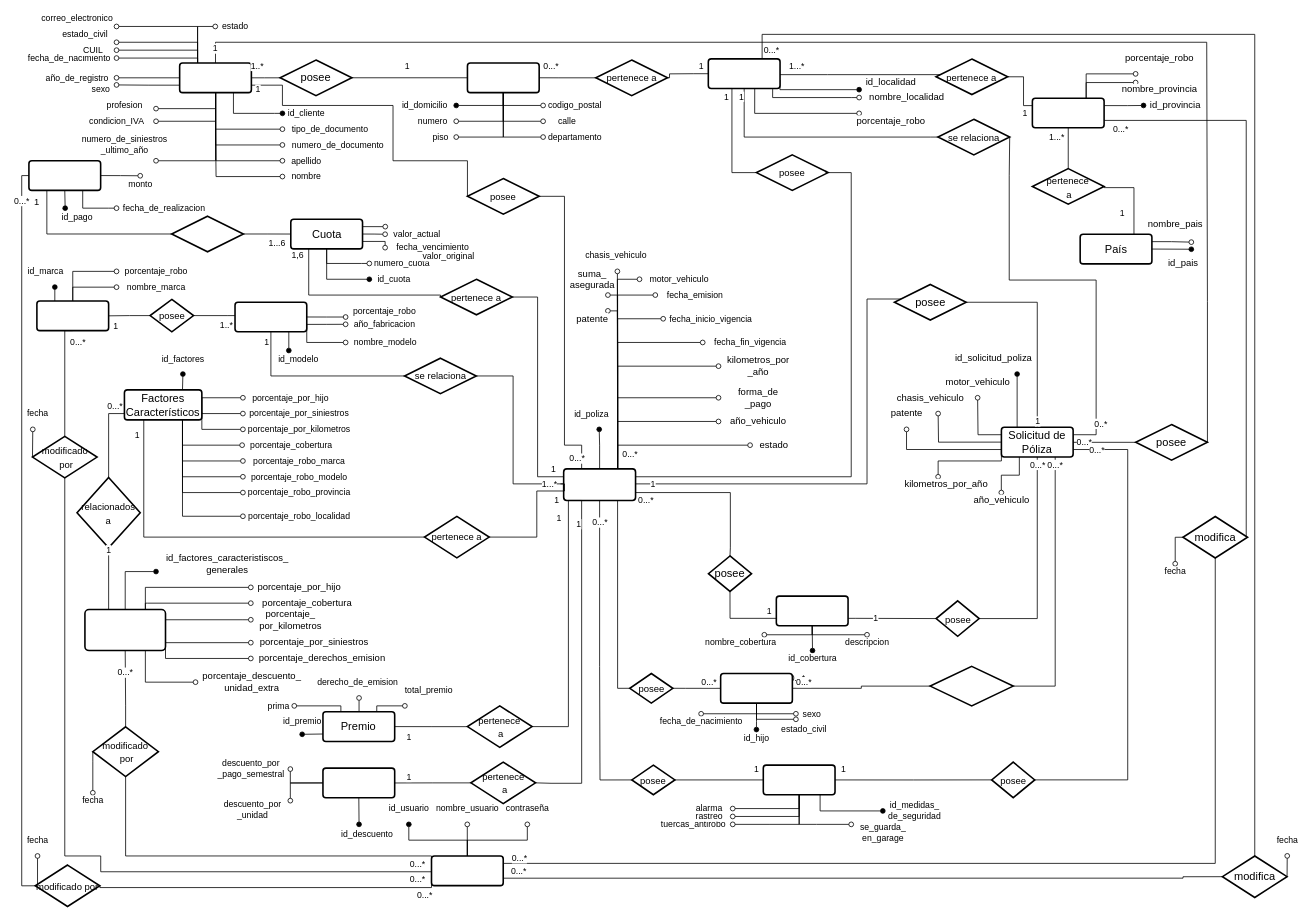
This 1311x921 diagram has some shape labels left out. Each missing label, with the centre of its shape:
asociado a: the point at 207,233
Cliente: the point at 215,77
Cobertura: the point at 811,610
Descuento: the point at 358,782
Domicilio: the point at 503,77
Factores Característicos Generales: the point at 125,629
forma parte de: the point at 971,685
Hijo: the point at 756,687
Localidad: the point at 743,73
Marca: the point at 72,315
Medidas de Seguridad: the point at 798,779
Modelo: the point at 270,316
Pago: the point at 64,175
Provincia: the point at 1067,112
Póliza: the point at 599,484
Usuario: the point at 467,870
